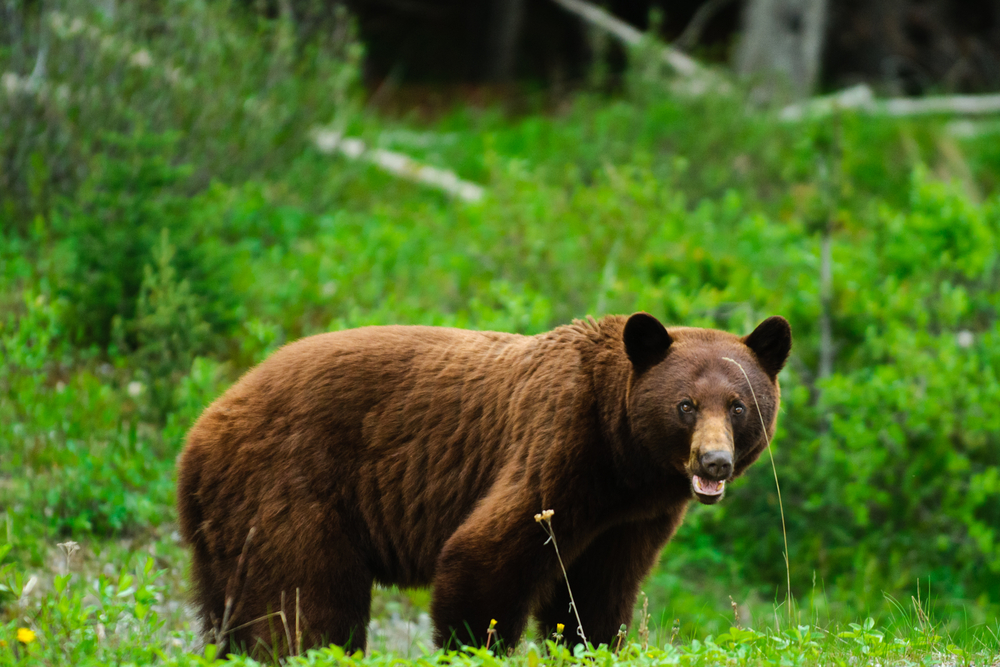bear: (620, 309, 791, 506)
